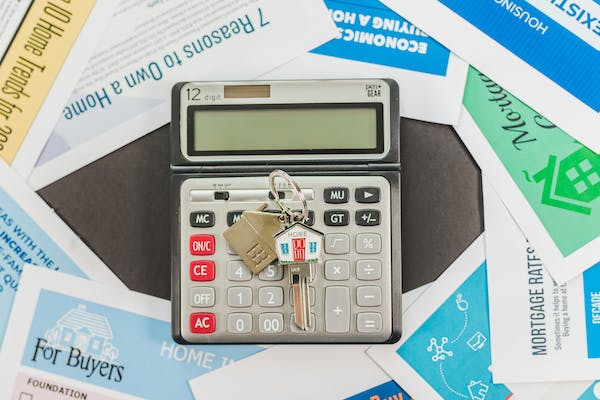key: (273, 222, 325, 329)
